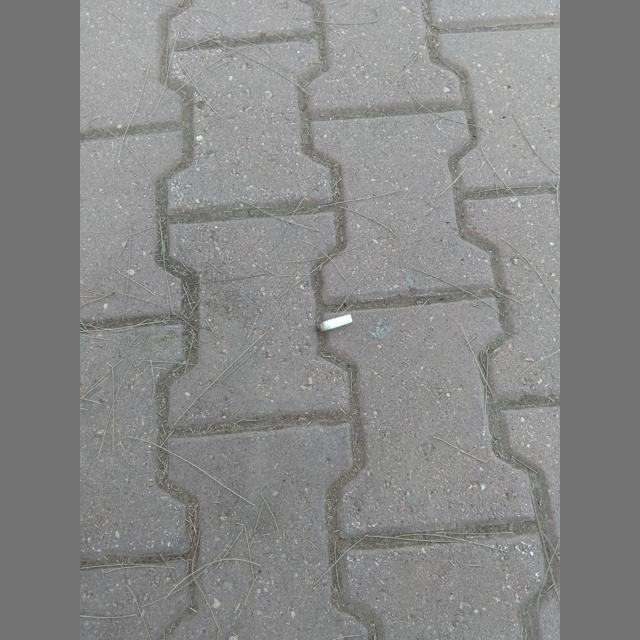litter: (317, 314, 353, 333)
